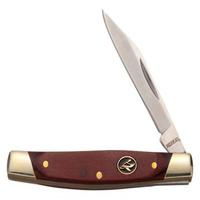knife: (6, 6, 196, 192), (98, 7, 197, 190)
